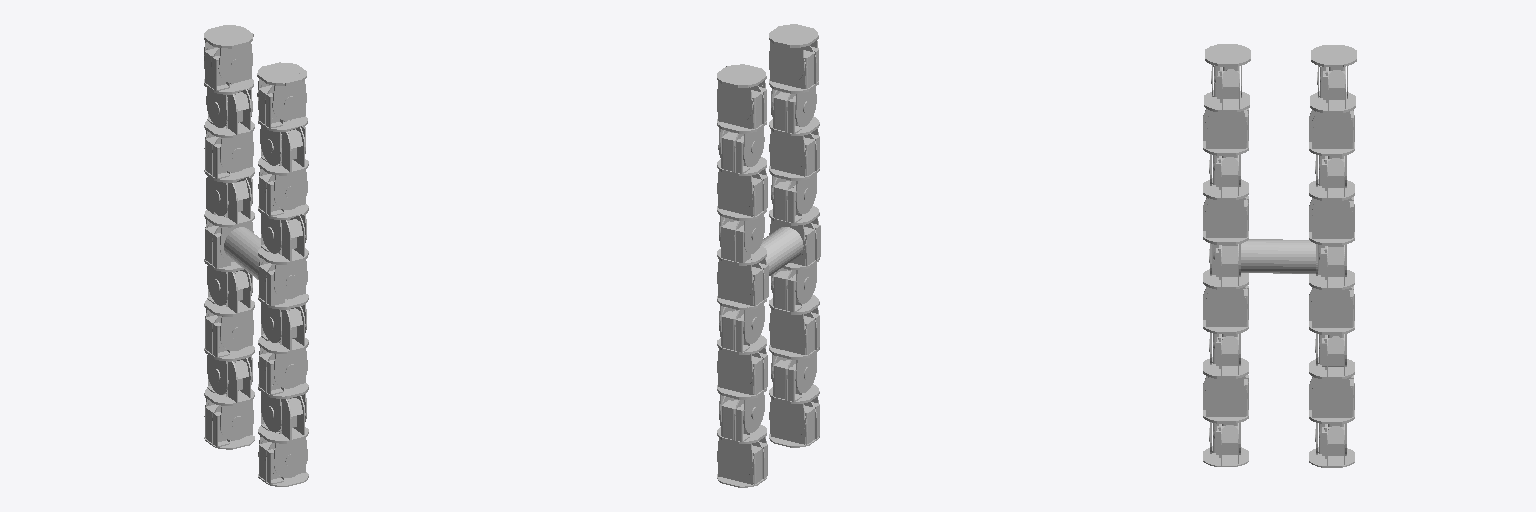
File: myRobotCorrettoNoResp.obj
3 views of the same model, side by side, from view 1: azimuth 30°, elevation 25°; view 2: azimuth 150°, elevation 25°; view 3: azimuth 270°, elevation 25° (orthographic).
Visible parts, largest first — view 1: snake_body6_center_snake_body6_respondable.001, snake_body9_right_snake_body9.001, snake_body7_right_snake_body7.001, snake_body9_left_snake_body9, snake_body7_left_snake_body7, snake_body3_right_snake_body3.001, snake_body3_left_snake_body3, snake_body1_right_snake_body3_respondable.002, snake_body1_left_snake_body3_respondable.001, snake_body2_right_snake_body4.002, snake_body2_left_snake_body4.001, snake_body8_right_snake_body8.001 (+5 smaller); view 2: snake_body6_center_snake_body6_respondable.001, snake_body7_left_snake_body7, snake_body9_right_snake_body9.001, snake_body9_left_snake_body9, snake_body7_right_snake_body7.001, snake_body3_left_snake_body3, snake_body3_right_snake_body3.001, snake_body1_right_snake_body3_respondable.002, snake_body1_left_snake_body3_respondable.001, snake_body2_left_snake_body4.001, snake_body2_right_snake_body4.002, snake_body8_left_snake_body8 (+5 smaller); view 3: snake_body6_center_snake_body6_respondable.001, snake_body2_left_snake_body4.001, snake_body2_right_snake_body4.002, snake_body4_left_snake_body4, snake_body8_right_snake_body8.001, snake_body4_right_snake_body4.003, snake_body8_left_snake_body8, snake_body10_left_snake_body10, snake_body10_right_snake_body10.002, snake_body1_right_snake_body3_respondable.002, snake_body1_left_snake_body3_respondable.001, snake_body9_right_snake_body9.001 (+5 smaller).
Boxes of the visible parts, x1=… form: snake_body6_center_snake_body6_respondable.001: x1=204, y1=178, x2=308, y2=342; snake_body9_right_snake_body9.001: x1=258, y1=396, x2=308, y2=477; snake_body7_right_snake_body7.001: x1=258, y1=306, x2=308, y2=388; snake_body9_left_snake_body9: x1=204, y1=358, x2=254, y2=440; snake_body7_left_snake_body7: x1=204, y1=269, x2=254, y2=350; snake_body3_right_snake_body3.001: x1=258, y1=127, x2=308, y2=209; snake_body3_left_snake_body3: x1=204, y1=89, x2=254, y2=172; snake_body1_right_snake_body3_respondable.002: x1=257, y1=62, x2=306, y2=120; snake_body1_left_snake_body3_respondable.001: x1=204, y1=25, x2=253, y2=82; snake_body2_right_snake_body4.002: x1=258, y1=82, x2=307, y2=165; snake_body2_left_snake_body4.001: x1=204, y1=45, x2=253, y2=127; snake_body8_right_snake_body8.001: x1=258, y1=350, x2=308, y2=432; snake_body6_center_snake_body6_respondable.001: x1=717, y1=178, x2=820, y2=343; snake_body7_left_snake_body7: x1=717, y1=307, x2=766, y2=389; snake_body9_right_snake_body9.001: x1=769, y1=356, x2=819, y2=438; snake_body9_left_snake_body9: x1=717, y1=396, x2=766, y2=478; snake_body7_right_snake_body7.001: x1=769, y1=268, x2=819, y2=349; snake_body3_left_snake_body3: x1=717, y1=130, x2=766, y2=210; snake_body3_right_snake_body3.001: x1=769, y1=90, x2=819, y2=170; snake_body1_right_snake_body3_respondable.002: x1=769, y1=24, x2=818, y2=82; snake_body1_left_snake_body3_respondable.001: x1=717, y1=64, x2=766, y2=122; snake_body2_left_snake_body4.001: x1=717, y1=86, x2=766, y2=166; snake_body2_right_snake_body4.002: x1=769, y1=46, x2=818, y2=126; snake_body8_left_snake_body8: x1=717, y1=352, x2=767, y2=432; snake_body6_center_snake_body6_respondable.001: x1=1203, y1=196, x2=1354, y2=325; snake_body2_left_snake_body4.001: x1=1310, y1=66, x2=1355, y2=148; snake_body2_right_snake_body4.002: x1=1204, y1=65, x2=1249, y2=147; snake_body4_left_snake_body4: x1=1309, y1=156, x2=1354, y2=236; snake_body8_right_snake_body8.001: x1=1203, y1=334, x2=1248, y2=414; snake_body4_right_snake_body4.003: x1=1203, y1=155, x2=1248, y2=235; snake_body8_left_snake_body8: x1=1309, y1=334, x2=1354, y2=414; snake_body10_left_snake_body10: x1=1309, y1=424, x2=1354, y2=467; snake_body10_right_snake_body10.002: x1=1203, y1=423, x2=1248, y2=466; snake_body1_right_snake_body3_respondable.002: x1=1205, y1=44, x2=1250, y2=97; snake_body1_left_snake_body3_respondable.001: x1=1311, y1=45, x2=1356, y2=98; snake_body9_right_snake_body9.001: x1=1203, y1=375, x2=1248, y2=454.
Bounding box in the file's own units: 0.0733 × 0.6838 × 0.2365.